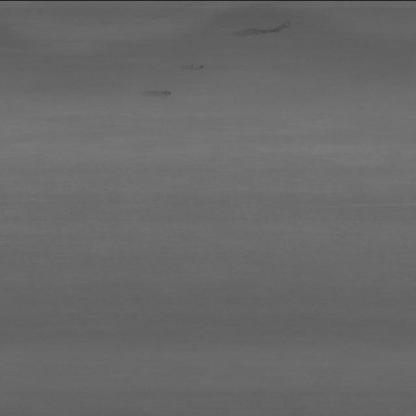water_spot: (234, 18, 302, 41), (137, 86, 180, 107), (174, 57, 222, 74)
